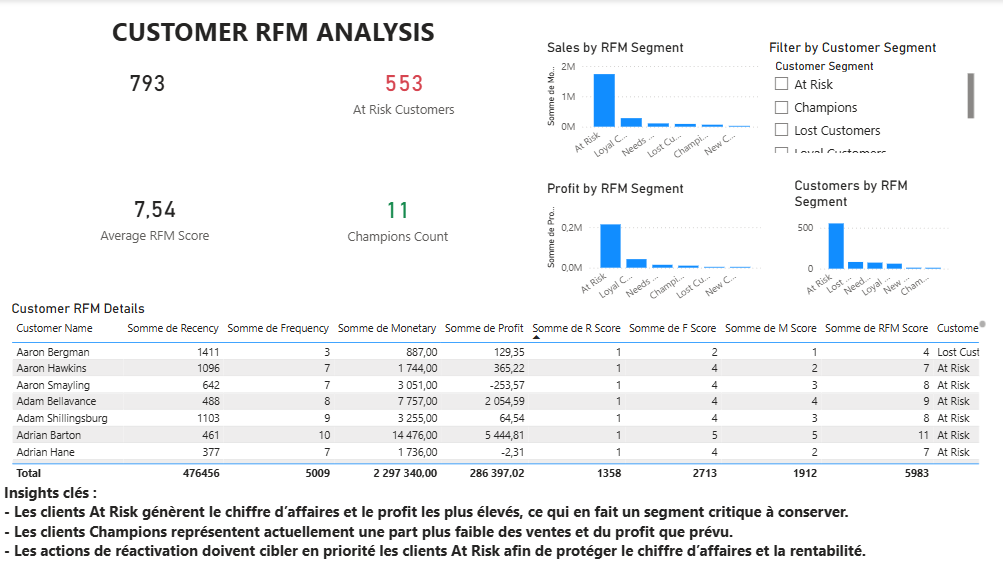

The dashboard page shown, as its layout file describes it:
{"tool":"powerbi","page":{"name":"Customer RFM Analysis","canvas":[1280,720],"ordinal":1},"visuals":[{"type":"card","fields":{"Values":["Orders.Total Customers"]},"box":[9.4,0,351.5,228.7],"z":0},{"type":"card","fields":{"Values":["Customers RFM.Average RFM Score"]},"box":[28.3,132.3,332.6,281.6],"z":1000},{"type":"card","fields":{"Values":["Customers RFM.Champions Count"]},"box":[360.9,160.6,279.7,226.8],"z":2000},{"type":"card","fields":{"Values":["Customers RFM.At Risk Customers"]},"box":[368.5,0,279.7,228.7],"z":3000},{"type":"clusteredColumnChart","title":"Sales by RFM Segment","fields":{"Category":["Customers RFM.Customer Segment"],"Y":["Sum(Customers RFM.Monetary)"]},"box":[684.1,51,279.7,162.5],"z":4000},{"type":"clusteredColumnChart","title":"Profit by RFM Segment","fields":{"Category":["Customers RFM.Customer Segment"],"Y":["Sum(Customers RFM.Profit)"]},"box":[684.1,228.7,279.7,162.5],"z":5000},{"type":"tableEx","title":"Customer RFM Details","fields":{"Values":["Customers RFM.Customer Name","Sum(Customers RFM.Recency)","Sum(Customers RFM.Frequency)","Sum(Customers RFM.Monetary)","Sum(Customers RFM.Profit)","Sum(Customers RFM.R Score)","Sum(Customers RFM.F Score)","Sum(Customers RFM.M Score)","Sum(Customers RFM.RFM Score)","Customers RFM.Customer Segment"]},"box":[9.4,379.8,1237.8,240],"z":6000},{"type":"columnChart","title":"Customers by RFM Segment","fields":{"Category":["Customers RFM.Customer Segment"],"Y":["Count(Customers RFM.Customer ID)"]},"box":[995.9,224.9,204.1,162.5],"z":7000},{"type":"slicer","title":"Filter by Customer Segment","fields":{"Values":["Customers RFM.Customer Segment"]},"box":[963.8,51,268.3,147.4],"z":8000},{"type":"textbox","box":[136.1,13.2,464.9,75.6],"z":9000},{"type":"textbox","box":[0,602.8,1279.4,117.2],"z":10000}]}

Visuals, with their boxes in screenshot pixels (x1, y1, x2, y2), scaled from the page's 1280x720 canvas onto the 1003x568 screenshot:
card - Orders.Total Customers: 7,0,283,180
card - Customers RFM.Average RFM Score: 22,104,283,327
card - Customers RFM.Champions Count: 283,127,502,306
card - Customers RFM.At Risk Customers: 289,0,508,180
"Sales by RFM Segment" clusteredColumnChart: 536,40,755,168
"Profit by RFM Segment" clusteredColumnChart: 536,180,755,309
"Customer RFM Details" tableEx: 7,300,977,489
"Customers by RFM Segment" columnChart: 780,177,940,306
"Filter by Customer Segment" slicer: 755,40,965,157
textbox: 107,10,471,70
textbox: 0,476,1002,567
